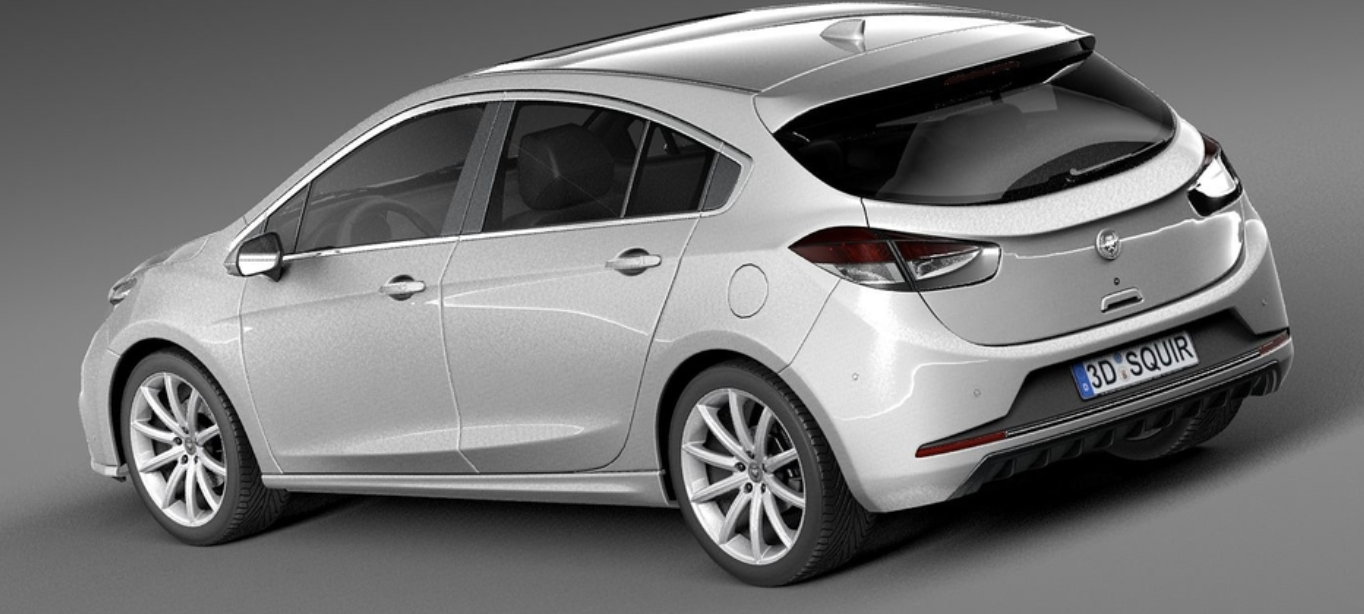hatch: (723, 261, 773, 322)
